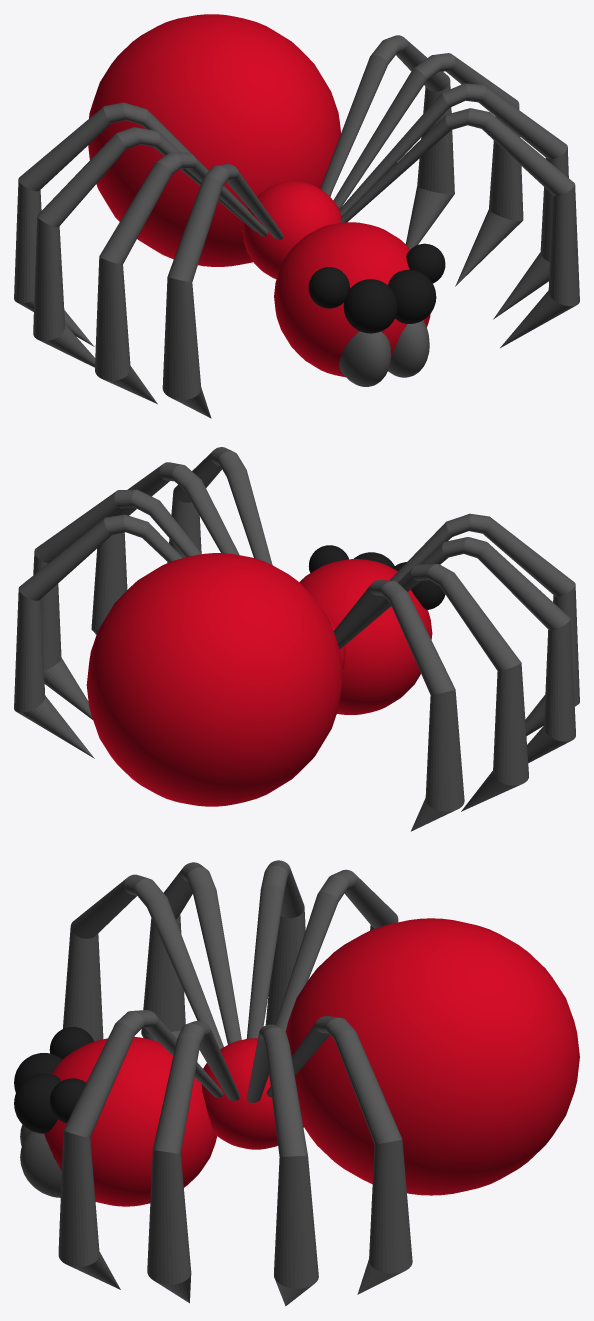
The model's file is spider.fbx.
3 renders of one model, top to bottom at view 1: azimuth 30°, elevation 25°; view 2: azimuth 150°, elevation 25°; view 3: azimuth 270°, elevation 25°, orthographic. The views are drawn at different scales.
Visible parts, largest first — view 1: Body.001, Head, Leg.002, Leg.006, Leg.007, Leg.005, Leg, Leg.003, Leg.001, Leg.004, Eye2, Sphere (+4 smaller); view 2: Body.001, Head, Leg.005, Leg.004, Leg.003, Leg.007, Leg, Leg.006, Leg.001, Leg.002, Eye1, Eye4; view 3: Body.001, Head, Leg.001, Leg.002, Leg.003, Leg, Leg.006, Leg.007, Leg.005, Leg.004, Eye3, Sphere.001 (+3 smaller).
Part boxes in pixels (bbox=[...]): Body.001: bbox=[88, 14, 341, 279]; Head: bbox=[274, 222, 430, 377]; Leg.002: bbox=[340, 108, 579, 347]; Leg.006: bbox=[162, 164, 283, 418]; Leg.007: bbox=[95, 152, 267, 404]; Leg.005: bbox=[33, 127, 256, 367]; Leg: bbox=[333, 53, 523, 286]; Leg.003: bbox=[320, 35, 454, 249]; Leg.001: bbox=[339, 83, 568, 319]; Leg.004: bbox=[14, 102, 250, 346]; Eye2: bbox=[343, 279, 397, 333]; Sphere: bbox=[339, 331, 391, 386]; Body.001: bbox=[86, 553, 345, 806]; Head: bbox=[299, 559, 432, 714]; Leg.005: bbox=[338, 564, 528, 811]; Leg.004: bbox=[333, 580, 464, 831]; Leg.003: bbox=[14, 514, 182, 758]; Leg.007: bbox=[353, 537, 575, 762]; Leg: bbox=[33, 489, 201, 719]; Leg.006: bbox=[378, 513, 579, 736]; Leg.001: bbox=[91, 462, 239, 634]; Leg.002: bbox=[167, 447, 272, 564]; Eye1: bbox=[411, 580, 445, 609]; Eye4: bbox=[308, 545, 348, 572]; Body.001: bbox=[201, 918, 579, 1195]; Head: bbox=[44, 1036, 217, 1206]; Leg.001: bbox=[147, 1021, 240, 1303]; Leg.002: bbox=[58, 1010, 223, 1289]; Leg.003: bbox=[266, 1016, 412, 1294]; Leg: bbox=[247, 1024, 318, 1305]; Leg.006: bbox=[63, 874, 223, 1049]; Leg.007: bbox=[141, 862, 241, 1044]; Leg.005: bbox=[246, 860, 305, 1038]; Leg.004: bbox=[275, 869, 398, 1031]; Eye3: bbox=[14, 1073, 61, 1133]; Sphere.001: bbox=[20, 1131, 61, 1197].
Bounding box in the file's own units: 570 × 284 × 518.
